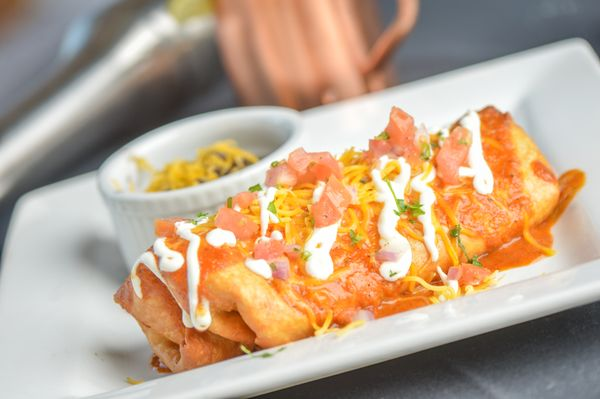sushi: (94, 104, 303, 277)
